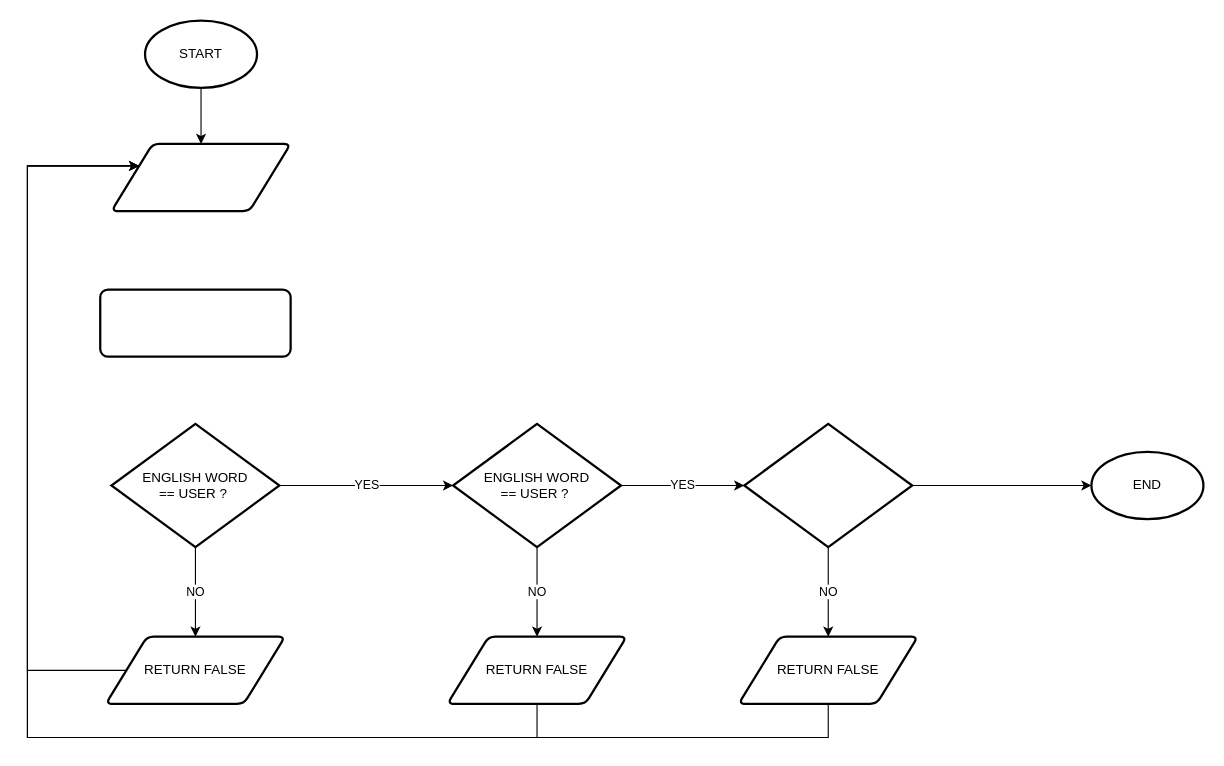
The diagram is 1224 pixels wide and 766 high, and some of its shapes have lost their labels. Each missing label, with the centre of its shape:
COUNT OF LTRS IN WORD == COUNT OF LTRS IN LETRS: (828,485)
ENGLISH WORDS ENGLISH LETTERS: (195,322)
USER INPUT: (200,177)
